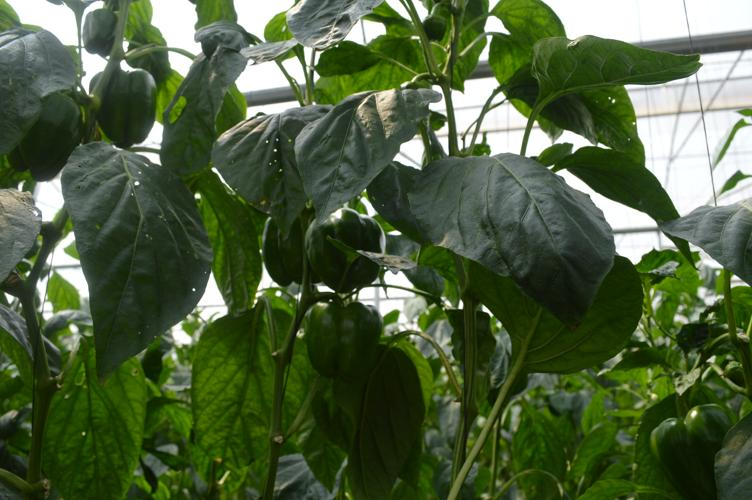BellPepper: (634, 404, 726, 494), (301, 209, 390, 288), (301, 299, 386, 373), (16, 96, 85, 176), (93, 69, 160, 144), (257, 212, 306, 285), (76, 5, 118, 50)
